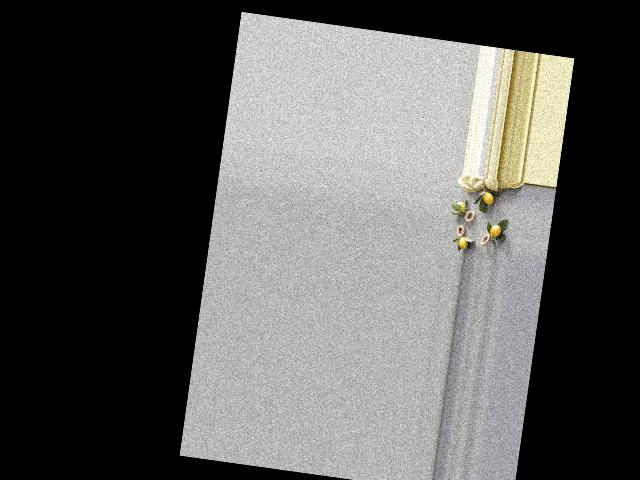lemon: (457, 234, 471, 252)
